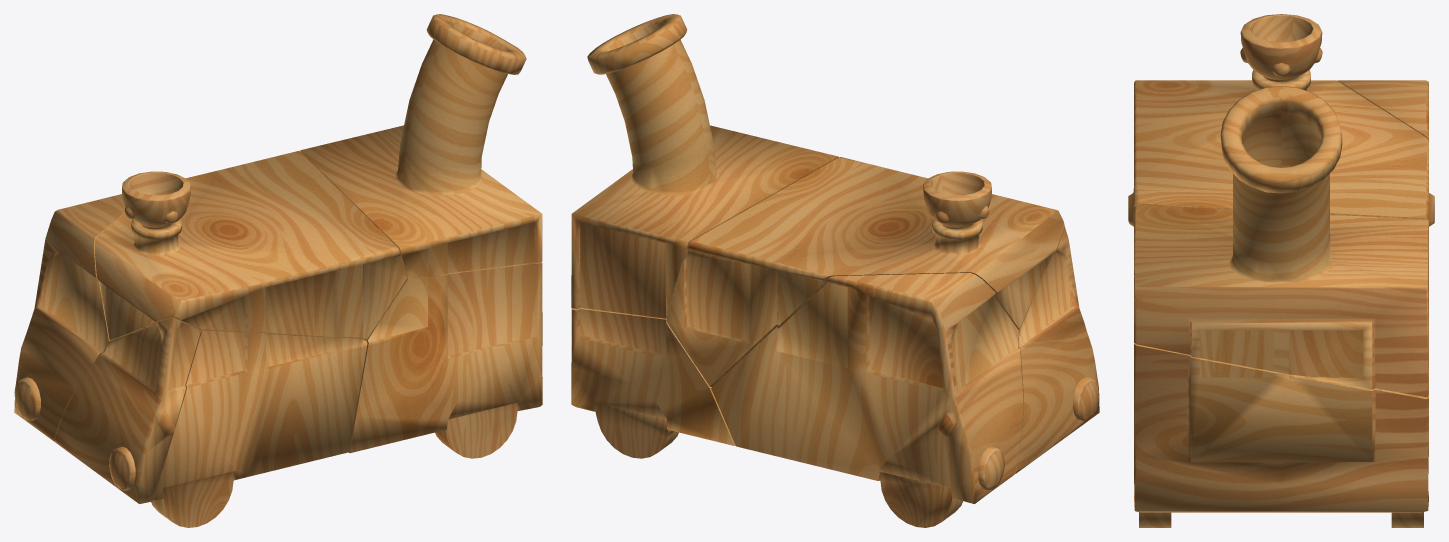
Rendered from Boong_V01_Drop.fbx.
3 views of the same model, side by side, from view 1: azimuth 30°, elevation 25°; view 2: azimuth 150°, elevation 25°; view 3: azimuth 270°, elevation 25° (orthographic). The views are drawn at different scales.
Visible parts, largest first — view 1: Boong_V01_cell.003, Boong_V01_cell.004, Boong_V01_cell, Boong_V01_cell.001, Boong_V01_cell.005, Boong_V01_cell.002, Boong_V01_cell.006; view 2: Boong_V01_cell.002, Boong_V01_cell.003, Boong_V01_cell.004, Boong_V01_cell, Boong_V01_cell.005, Boong_V01_cell.006; view 3: Boong_V01_cell.004, Boong_V01_cell, Boong_V01_cell.003, Boong_V01_cell.006, Boong_V01_cell.002.
Part boxes in pixels (x1,y1,x2,y2): Boong_V01_cell.003: (95,151,406,340); Boong_V01_cell.004: (300,14,542,278); Boong_V01_cell: (349,262,542,458); Boong_V01_cell.001: (151,330,367,527); Boong_V01_cell.005: (54,318,200,503); Boong_V01_cell.002: (14,194,125,440); Boong_V01_cell.006: (122,171,190,229); Boong_V01_cell.002: (711,273,1023,527); Boong_V01_cell.003: (666,157,1064,386); Boong_V01_cell.004: (571,14,838,318); Boong_V01_cell: (571,307,735,458); Boong_V01_cell.005: (1015,226,1099,473); Boong_V01_cell.006: (923,171,991,229); Boong_V01_cell.004: (1134,86,1428,397); Boong_V01_cell: (1134,276,1428,527); Boong_V01_cell.003: (1134,70,1428,297); Boong_V01_cell.006: (1240,14,1322,81); Boong_V01_cell.002: (1337,80,1434,226).
Bounding box in the file's own units: 86.91 × 70.81 × 43.65.
